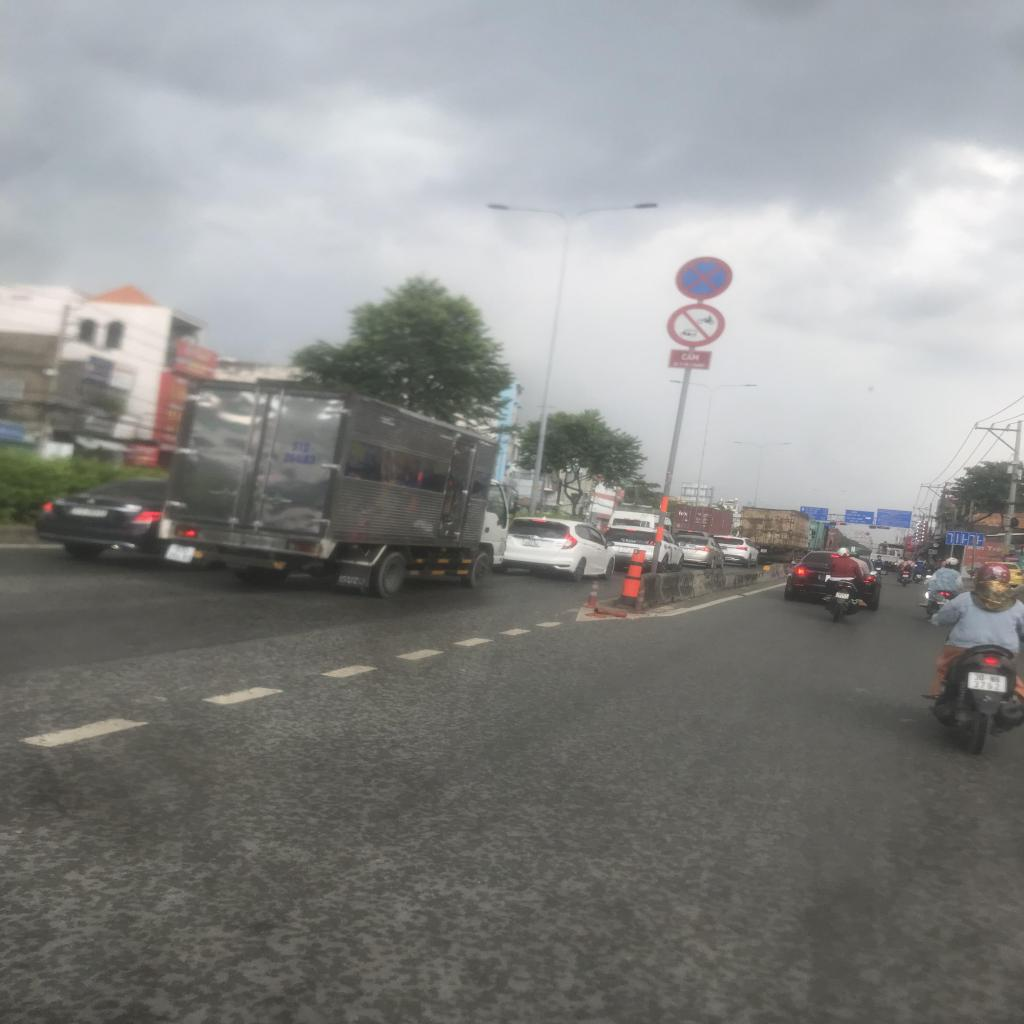cam_dung_xe_va_do_xe: (676, 257, 734, 300)
cam_xe_2_banh_va_xe_3_banh_co_dong_co: (666, 302, 726, 346)
huong_di_tren_moi_lan_duong_theo_vach_ke_duong: (946, 533, 983, 547)
